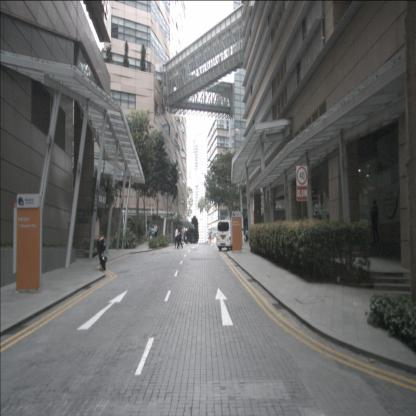human-pedestrian-adult: (370, 199, 380, 241), (174, 226, 180, 249), (177, 227, 182, 249), (153, 223, 158, 240), (151, 224, 155, 243), (208, 233, 212, 244), (245, 228, 248, 241)
vehicle-car: (216, 220, 244, 251)
vehicle-motorcycle: (96, 236, 108, 271)
